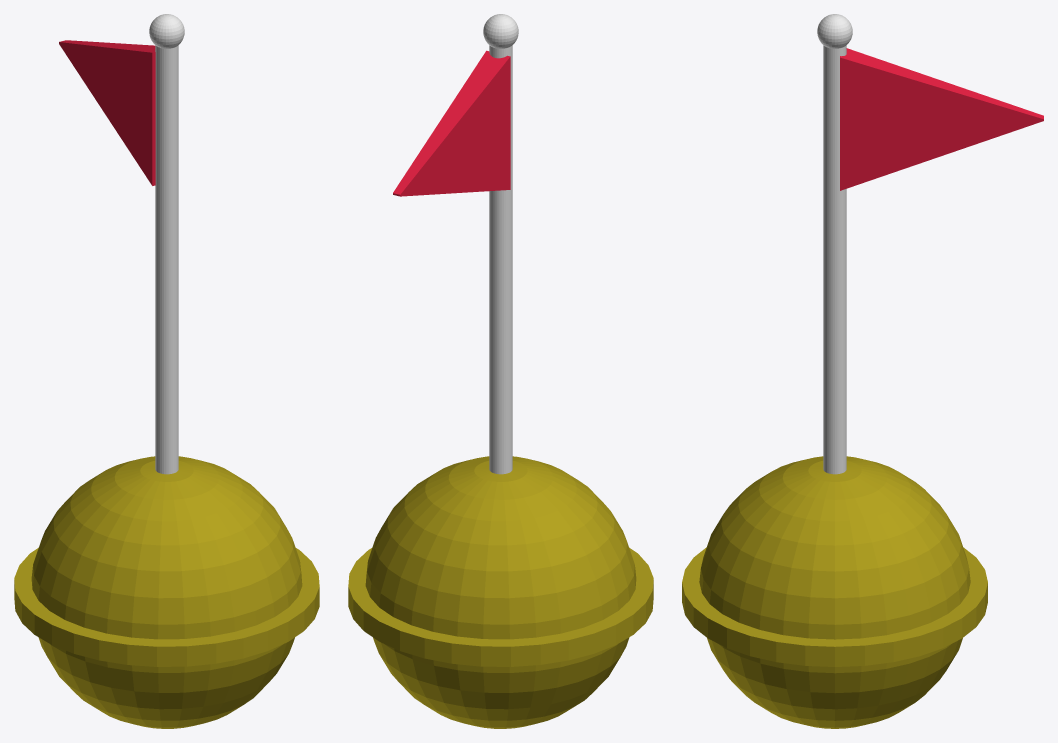
Rendered from buoyot_0.glb.
3 renders of one model, left to right at view 1: azimuth 30°, elevation 25°; view 2: azimuth 150°, elevation 25°; view 3: azimuth 270°, elevation 25°, orthographic.
Parts seen in each view (by area): view 1: Sphere, Cylinder, Cylinder.001, Cube, Sphere.001; view 2: Sphere, Cylinder, Cube, Cylinder.001, Sphere.001; view 3: Sphere, Cube, Cylinder, Cylinder.001, Sphere.001.
Boxes of the visible parts, box(x1,y1,x2,y2) form: Sphere: box(31, 456, 302, 728); Cylinder: box(14, 547, 319, 666); Cylinder.001: box(155, 45, 178, 474); Cube: box(59, 40, 155, 185); Sphere.001: box(149, 14, 184, 48); Sphere: box(365, 456, 636, 728); Cylinder: box(348, 547, 653, 666); Cube: box(393, 50, 510, 196); Cylinder.001: box(489, 45, 512, 474); Sphere.001: box(483, 14, 518, 48); Sphere: box(699, 456, 970, 728); Cube: box(840, 48, 1043, 190); Cylinder: box(682, 547, 987, 666); Cylinder.001: box(823, 45, 846, 474); Sphere.001: box(817, 14, 852, 48).
Bounding box in the file's own units: 3.52 × 8.9 × 4.17.
